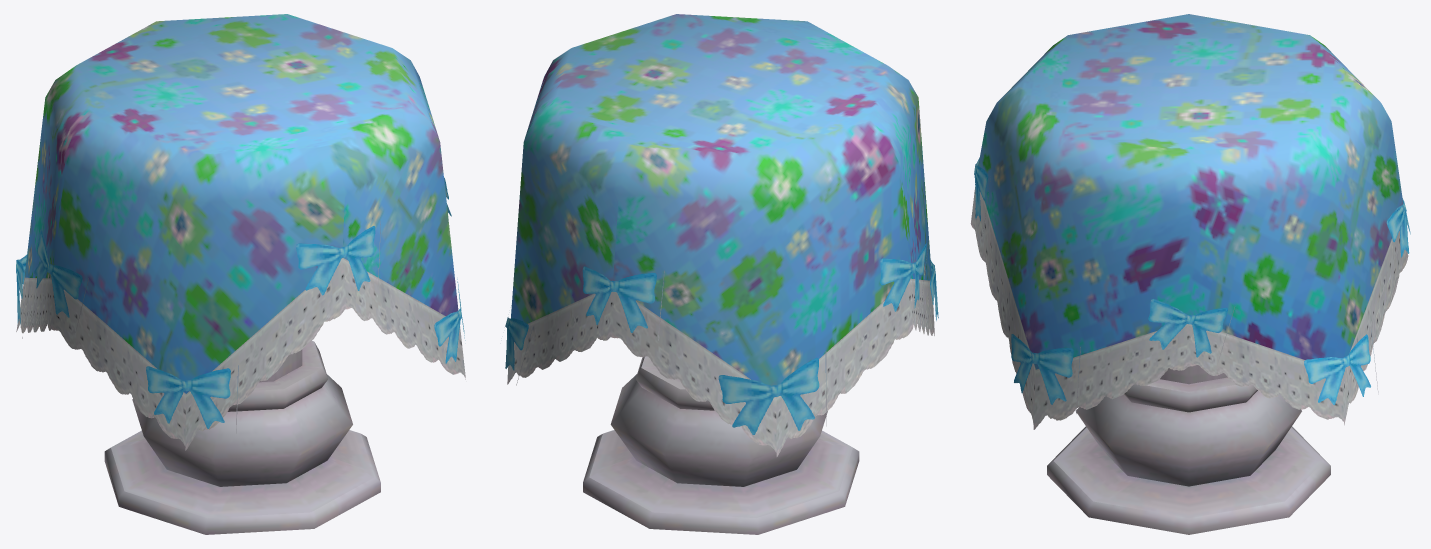
The model's file is furni_0200009_03.FBX.
3 views of the same model, side by side, from view 1: azimuth 30°, elevation 25°; view 2: azimuth 150°, elevation 25°; view 3: azimuth 270°, elevation 25° (orthographic).
Visible parts, largest first — view 1: furni_0200009_03; view 2: furni_0200009_03; view 3: furni_0200009_03.
Part boxes in pixels (x1,y1,x2,y2): furni_0200009_03: [16, 14, 465, 534]; furni_0200009_03: [505, 14, 938, 534]; furni_0200009_03: [970, 14, 1410, 534].
Size of the model in its own units: 83.54 by 80 by 83.53.
